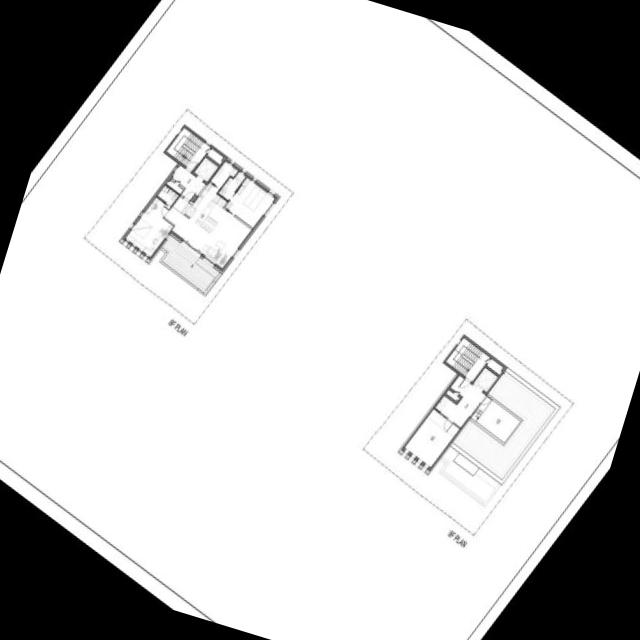background: (0, 0, 640, 640)
space_bedroom: (224, 177, 274, 228)
space_elevator: (473, 367, 497, 392), (194, 157, 217, 182)
space_elevator_hall: (435, 375, 485, 427), (172, 165, 205, 201)
space_front: (172, 196, 191, 215)
space_kitchen: (184, 182, 227, 235), (144, 197, 170, 223)
space_living_room: (163, 206, 251, 268), (125, 212, 173, 257)
space_other: (404, 409, 459, 467), (210, 161, 237, 188), (486, 359, 502, 375), (165, 180, 182, 194), (445, 390, 459, 402)
space_staircase: (445, 338, 489, 382), (166, 127, 210, 171), (206, 148, 223, 164)
space_toilet: (217, 171, 245, 200), (157, 185, 178, 206)
